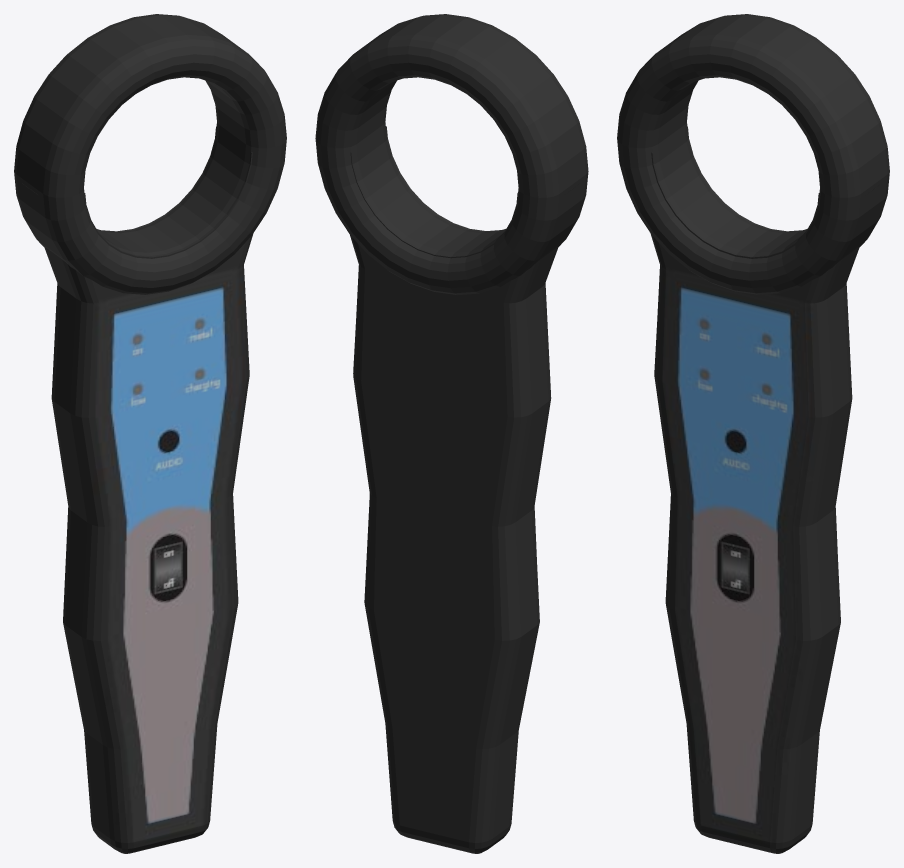
Rendered from metal detector.fbx.
3 views of the same model, side by side, from view 1: azimuth 30°, elevation 25°; view 2: azimuth 150°, elevation 25°; view 3: azimuth 330°, elevation 25° (orthographic).
Visible parts, largest first — view 1: Cylinder.001; view 2: Cylinder.001; view 3: Cylinder.001.
Boxes of the visible parts, x1,y1,x2,y2 form: Cylinder.001: [14, 14, 286, 853]; Cylinder.001: [315, 14, 588, 853]; Cylinder.001: [617, 14, 889, 853].
Size of the model in its own units: 310 by 993 by 104.
1 material, 1 textured.
